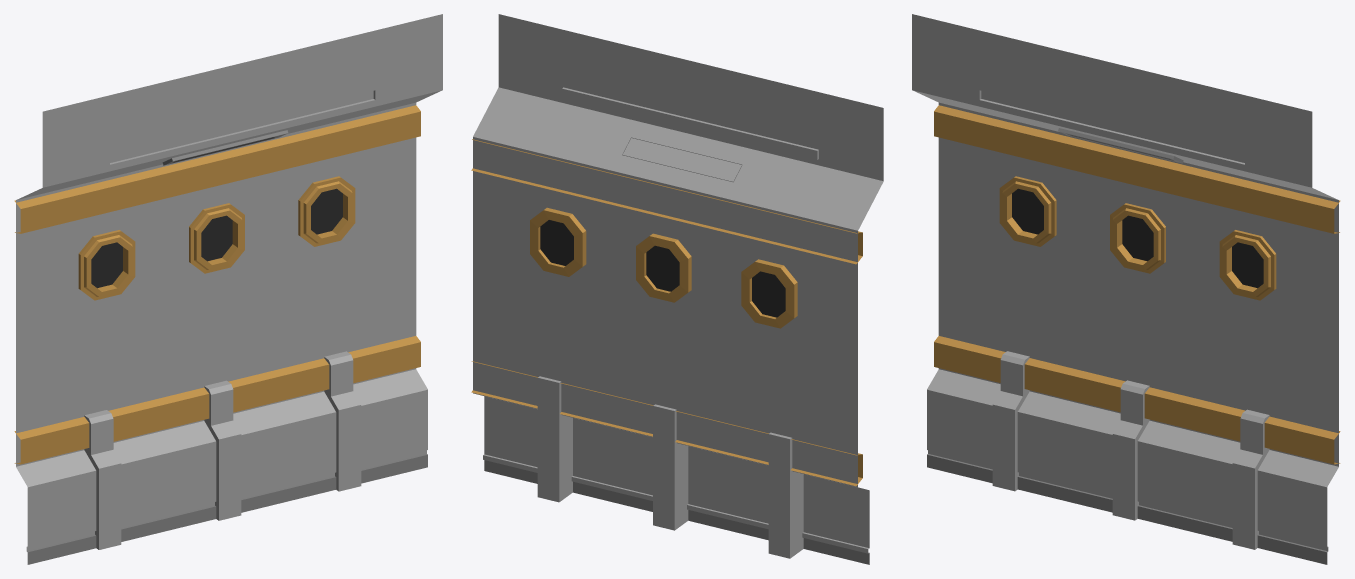
Rendered from SmallWindows_Wall_SideB.fbx.
3 views of the same model, side by side, from view 1: azimuth 30°, elevation 25°; view 2: azimuth 150°, elevation 25°; view 3: azimuth 330°, elevation 25° (orthographic). The views are drawn at different scales.
Visible parts, largest first — view 1: SmallWindows_Wall_SideB; view 2: SmallWindows_Wall_SideB; view 3: SmallWindows_Wall_SideB.
Part boxes in pixels (x1=…): SmallWindows_Wall_SideB: x1=14, y1=14, x2=442, y2=564; SmallWindows_Wall_SideB: x1=471, y1=14, x2=883, y2=564; SmallWindows_Wall_SideB: x1=912, y1=14, x2=1340, y2=564.
Size of the model in its own units: 4 by 4.43 by 0.5261.
